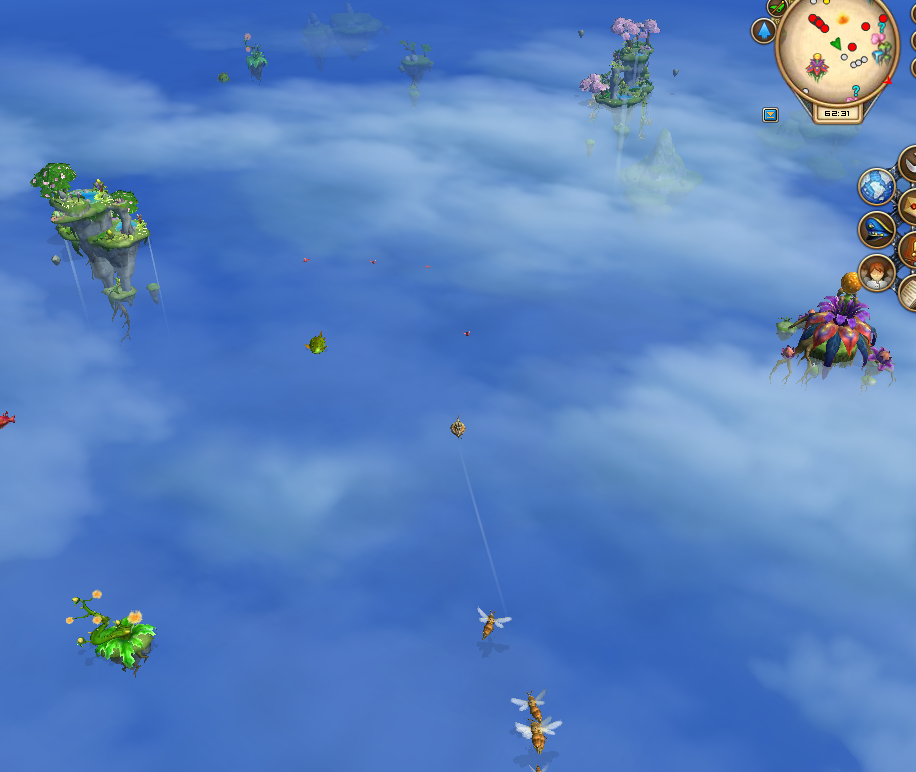dandelion-full: (62, 583, 163, 680), (237, 28, 270, 83)
